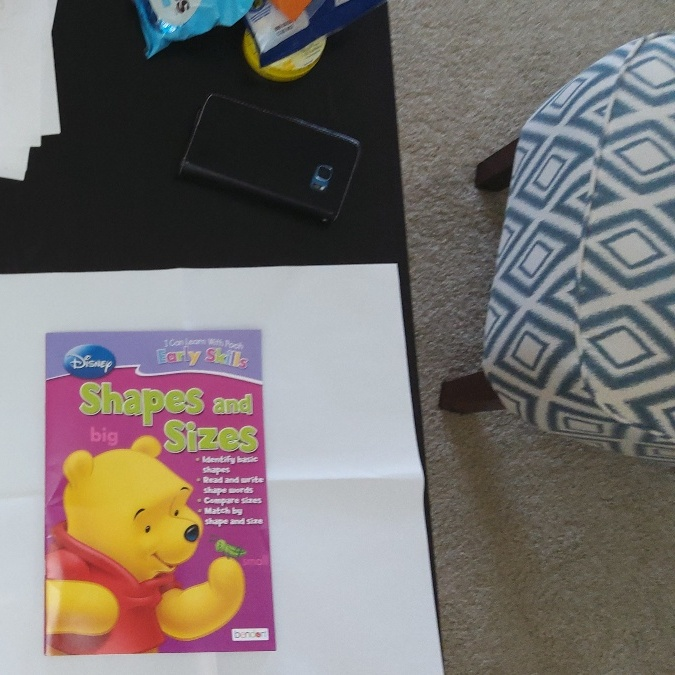book: (45, 337, 278, 652)
